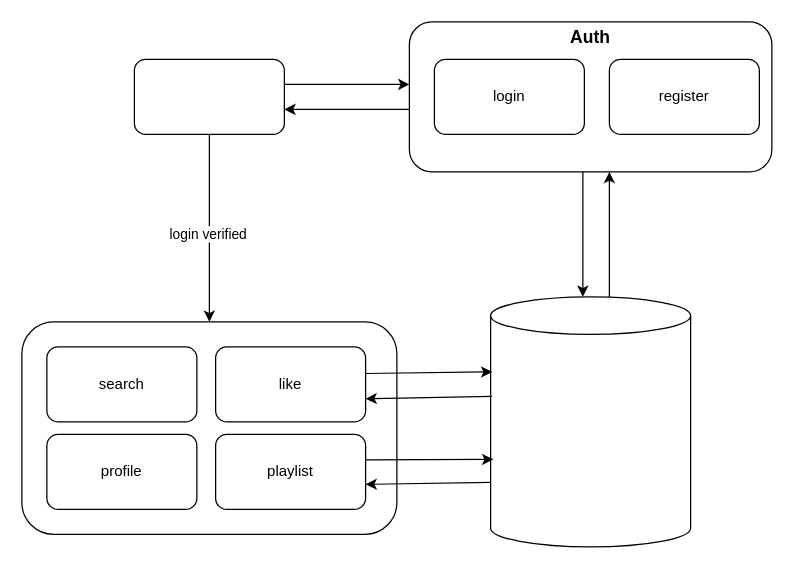
Image size: 794x569. Some labels were removed from this diagram. Here are the shapes that lost their labels. From the top down, the centre of each, then its label:
[208,96]: auth register/login
[590,421]: Database (sqlite)
